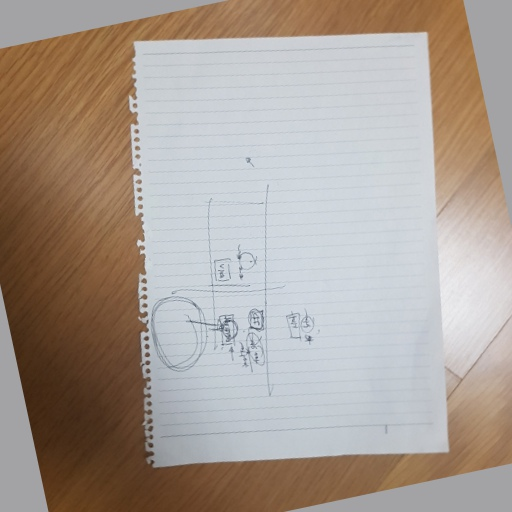Paper_2: (122, 26, 472, 473)
